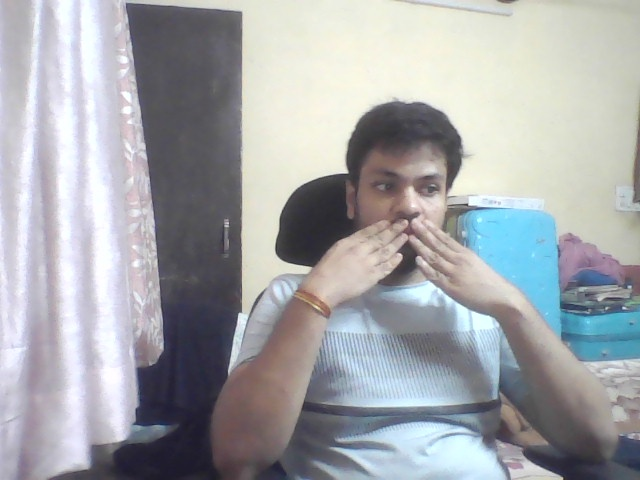Thanks: (290, 200, 522, 329)
